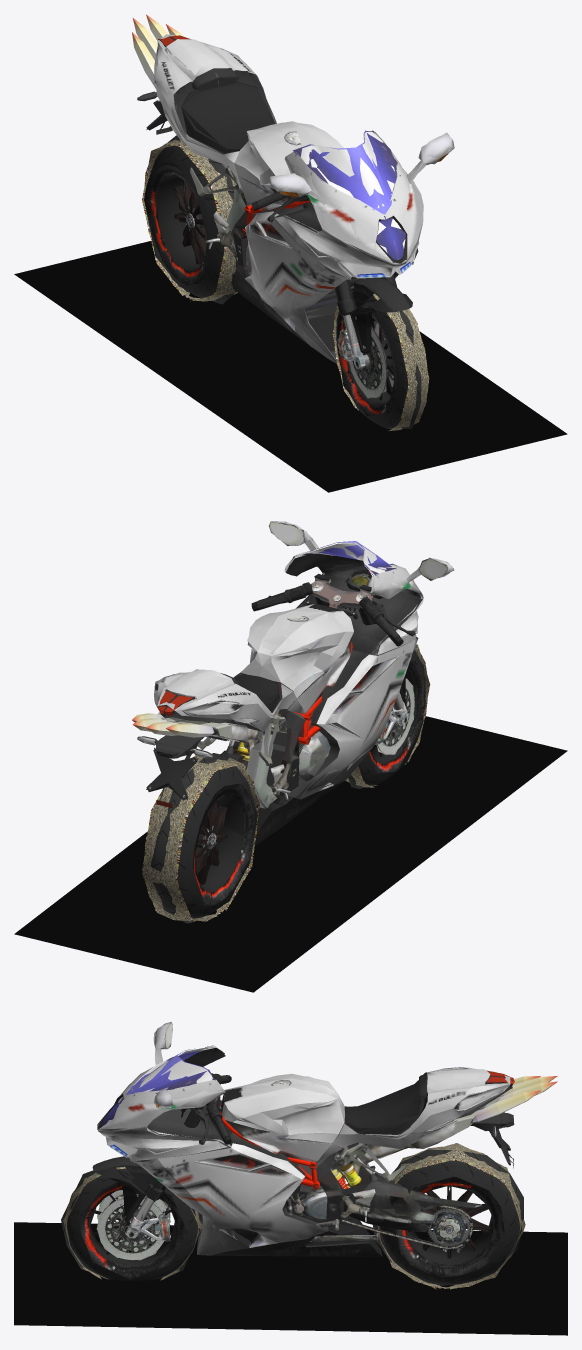
File: NV Bluster 2016 Z4 White.fbx
The picture shows the model from 3 angles, top to bottom: view 1: azimuth 30°, elevation 25°; view 2: azimuth 150°, elevation 25°; view 3: azimuth 270°, elevation 25°; orthographic projection. The views are drawn at different scales.
Visible parts, largest first — view 1: Motorbike_Shadow, Body__LOD2_, Body, Body__LOD1_, Rear_Wheel__LOD2_, Rear_Tire__LOD2_, Front_Fork, Front_Wheel__LOD2_, Rear_Wheel__LOD1_, Rear_Wheel, Front_Wheel, Front_Tire__LOD2_ (+11 smaller); view 2: Motorbike_Shadow, Body__LOD2_, Body, Body__LOD1_, Rear_Tire__LOD2_, Rear_Wheel__LOD2_, Rear_Wheel_Dirt__LOD2_, Handle, Rear_Wheel__LOD1_, Rear_Wheel, Front_Wheel__LOD2_, Rear_Wheel_Dirt (+7 smaller); view 3: Motorbike_Shadow, Body__LOD2_, Body, Body__LOD1_, Front_Wheel__LOD2_, Rear_Tire__LOD2_, Rear_Wheel, Rear_Wheel__LOD2_, Front_Wheel, Swing_Arm, Rear_Wheel__LOD1_, Front_Fork (+17 smaller).
Part boxes in pixels (left/top/right/bottom): Motorbike_Shadow: left=14, top=241, right=567, bottom=492; Body__LOD2_: left=144, top=34, right=454, bottom=363; Body: left=137, top=36, right=452, bottom=361; Body__LOD1_: left=140, top=39, right=453, bottom=361; Rear_Wheel__LOD2_: left=144, top=163, right=208, bottom=285; Rear_Tire__LOD2_: left=144, top=135, right=239, bottom=304; Front_Fork: left=336, top=277, right=412, bottom=368; Front_Wheel__LOD2_: left=336, top=300, right=397, bottom=415; Rear_Wheel__LOD1_: left=149, top=162, right=207, bottom=284; Rear_Wheel: left=149, top=163, right=208, bottom=284; Front_Wheel: left=346, top=320, right=394, bottom=416; Front_Tire__LOD2_: left=350, top=281, right=421, bottom=428; Motorbike_Shadow: left=14, top=716, right=567, bottom=992; Body__LOD2_: left=143, top=521, right=454, bottom=845; Body: left=137, top=521, right=452, bottom=841; Body__LOD1_: left=138, top=522, right=453, bottom=835; Rear_Tire__LOD2_: left=150, top=753, right=257, bottom=923; Rear_Wheel__LOD2_: left=192, top=784, right=254, bottom=905; Rear_Wheel_Dirt__LOD2_: left=142, top=757, right=259, bottom=921; Handle: left=251, top=573, right=415, bottom=646; Rear_Wheel__LOD1_: left=194, top=784, right=253, bottom=904; Rear_Wheel: left=195, top=784, right=254, bottom=905; Front_Wheel__LOD2_: left=369, top=660, right=425, bottom=773; Rear_Wheel_Dirt: left=144, top=757, right=257, bottom=920; Motorbike_Shadow: left=14, top=1222, right=567, bottom=1335; Body__LOD2_: left=97, top=1022, right=514, bottom=1256; Body: left=98, top=1022, right=514, bottom=1256; Body__LOD1_: left=97, top=1022, right=512, bottom=1256; Front_Wheel__LOD2_: left=78, top=1181, right=187, bottom=1279; Rear_Tire__LOD2_: left=373, top=1149, right=523, bottom=1282; Rear_Wheel: left=398, top=1176, right=504, bottom=1276; Rear_Wheel__LOD2_: left=398, top=1181, right=505, bottom=1275; Front_Wheel: left=87, top=1189, right=176, bottom=1261; Swing_Arm: left=342, top=1184, right=481, bottom=1252; Rear_Wheel__LOD1_: left=396, top=1177, right=504, bottom=1276; Front_Fork: left=93, top=1156, right=173, bottom=1241.
Bounding box in the file's own units: 110 × 115 × 250.
